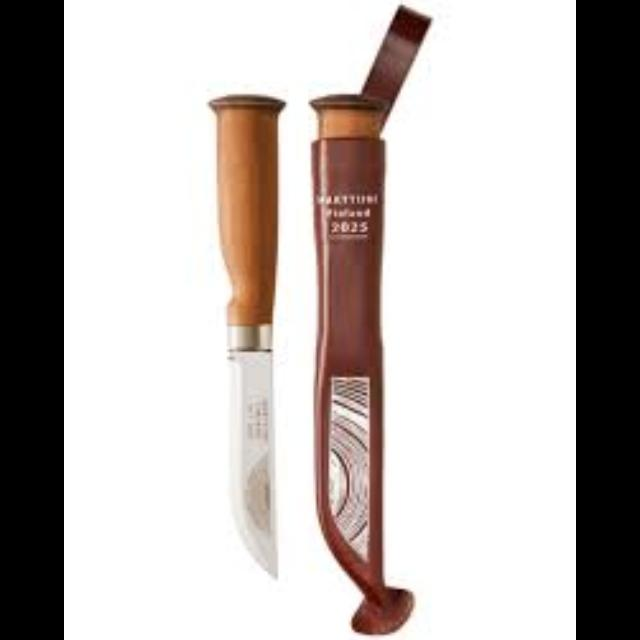knife: (204, 91, 286, 578)
